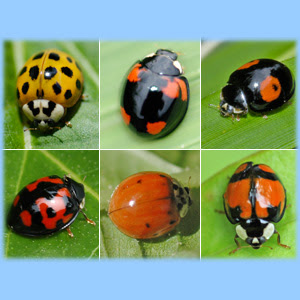other: (217, 161, 297, 255)
rash: (6, 166, 84, 242)
red: (13, 47, 86, 133), (106, 171, 191, 240)
two_spots: (217, 57, 297, 120)
two_spots_mutant: (119, 48, 191, 142)
